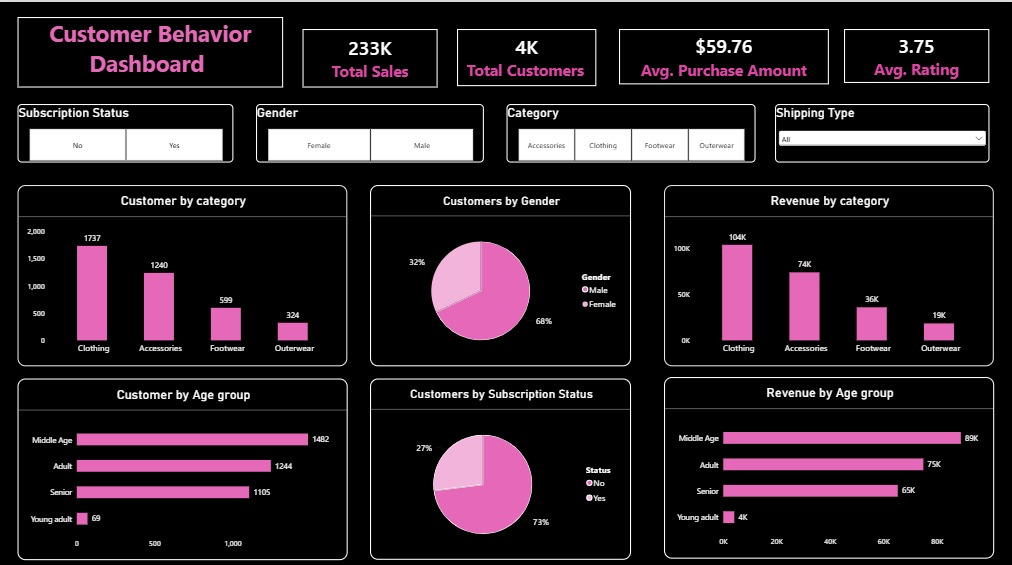

The dashboard page shown, as its layout file describes it:
{"tool":"powerbi","page":{"name":"Page 1","canvas":[1920,1080],"ordinal":0},"visuals":[{"type":"textbox","box":[36.9,28.3,501.7,133.2],"z":0},{"type":"cardVisual","title":"Total Sales","fields":{"Data":["customer_shopping_behavior_cleaned (2).Total Sales"]},"box":[575.4,51,255.1,110.6],"z":1000},{"type":"cardVisual","title":"Total Sales","fields":{"Data":["customer_shopping_behavior_cleaned (2).Total Customers"]},"box":[867.4,51,263.6,107.7],"z":2000},{"type":"cardVisual","title":"Total Sales","fields":{"Data":["customer_shopping_behavior_cleaned (2).Average Purchase Amount"]},"box":[1173.6,51,396.9,104.9],"z":3000},{"type":"cardVisual","title":"Total Sales","fields":{"Data":["customer_shopping_behavior_cleaned (2).Average Customer Rating"]},"box":[1598.8,51,275,102],"z":4000},{"type":"slicer","title":"Subscription Status","fields":{"Values":["customer_shopping_behavior_cleaned (2).subscription_status"]},"box":[36.9,192.8,408.2,110.6],"z":5000},{"type":"slicer","title":"Gender","fields":{"Values":["customer_shopping_behavior_cleaned (2).gender"]},"box":[487.6,192.8,430.9,110.6],"z":6000},{"type":"slicer","title":"Category","fields":{"Values":["customer_shopping_behavior_cleaned (2).category"]},"box":[961,192.8,470.6,110.6],"z":7000},{"type":"slicer","title":"Shipping Type","fields":{"Values":["customer_shopping_behavior_cleaned (2).shipping_type"]},"box":[1468.4,192.8,405.4,110.6],"z":8000},{"type":"clusteredColumnChart","title":"Customer by category","fields":{"Category":["customer_shopping_behavior_cleaned (2).category"],"Y":["Count(customer_shopping_behavior_cleaned (2).customer_id)"]},"box":[36.9,345.8,623.6,343],"z":9000},{"type":"pieChart","title":"Customers by Gender","fields":{"Category":["customer_shopping_behavior_cleaned (2).gender"],"Y":["CountNonNull(customer_shopping_behavior_cleaned (2).customer_id)"]},"box":[703,345.8,493.2,343],"z":10000},{"type":"clusteredColumnChart","title":"Revenue by category","fields":{"Category":["customer_shopping_behavior_cleaned (2).category"],"Y":["Sum(customer_shopping_behavior_cleaned (2).purchase_amount)"]},"box":[1258.6,345.8,623.6,343],"z":11000},{"type":"pieChart","title":"Customers by Subscription Status","fields":{"Category":["customer_shopping_behavior_cleaned (2).subscription_status"],"Y":["CountNonNull(customer_shopping_behavior_cleaned (2).customer_id)"]},"box":[703,711.5,493.2,343],"z":12000},{"type":"clusteredBarChart","title":"Customer by Age group","fields":{"Y":["Count(customer_shopping_behavior_cleaned (2).customer_id)"],"Category":["customer_shopping_behavior_cleaned (2).age_group"]},"box":[37,712,624,343],"z":13000},{"type":"clusteredBarChart","title":"Revenue by Age group","fields":{"Y":["customer_shopping_behavior_cleaned (2).Total Purchase Amount"],"Category":["customer_shopping_behavior_cleaned (2).age_group"]},"box":[1258.8,708.8,624,343],"z":14000}]}

Visuals, with their boxes in screenshot pixels (x1, y1, x2, y2), scaled from the page's 1920x1080 canvas onto the 1012x565 screenshot:
textbox: {"left": 19, "top": 15, "right": 284, "bottom": 84}
"Total Sales" cardVisual: {"left": 303, "top": 27, "right": 438, "bottom": 85}
"Total Sales" cardVisual: {"left": 457, "top": 27, "right": 596, "bottom": 83}
"Total Sales" cardVisual: {"left": 619, "top": 27, "right": 828, "bottom": 82}
"Total Sales" cardVisual: {"left": 843, "top": 27, "right": 988, "bottom": 80}
"Subscription Status" slicer: {"left": 19, "top": 101, "right": 235, "bottom": 159}
"Gender" slicer: {"left": 257, "top": 101, "right": 484, "bottom": 159}
"Category" slicer: {"left": 507, "top": 101, "right": 755, "bottom": 159}
"Shipping Type" slicer: {"left": 774, "top": 101, "right": 988, "bottom": 159}
"Customer by category" clusteredColumnChart: {"left": 19, "top": 181, "right": 348, "bottom": 360}
"Customers by Gender" pieChart: {"left": 371, "top": 181, "right": 630, "bottom": 360}
"Revenue by category" clusteredColumnChart: {"left": 663, "top": 181, "right": 992, "bottom": 360}
"Customers by Subscription Status" pieChart: {"left": 371, "top": 372, "right": 630, "bottom": 552}
"Customer by Age group" clusteredBarChart: {"left": 20, "top": 372, "right": 348, "bottom": 552}
"Revenue by Age group" clusteredBarChart: {"left": 663, "top": 371, "right": 992, "bottom": 550}
